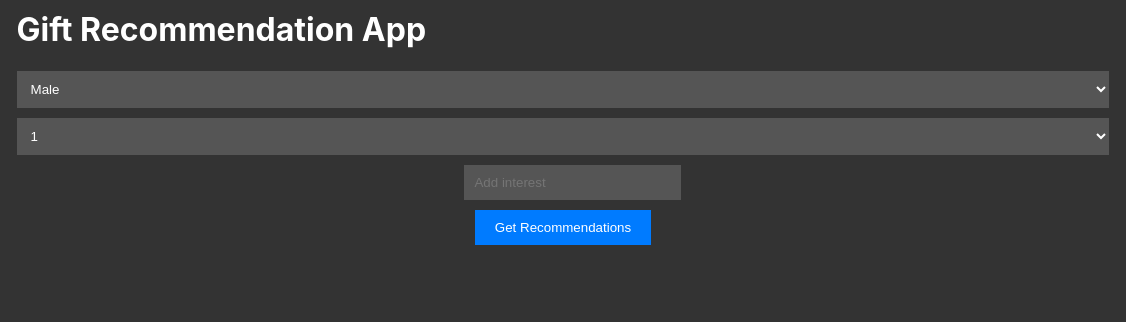
Test: GiftForm › error message is displayed when API request fails
What coordinates should you click on to do the following:
click the button "Get Recommendations"
I would click on:
 (563, 227)
Its box is [475,210,651,245].
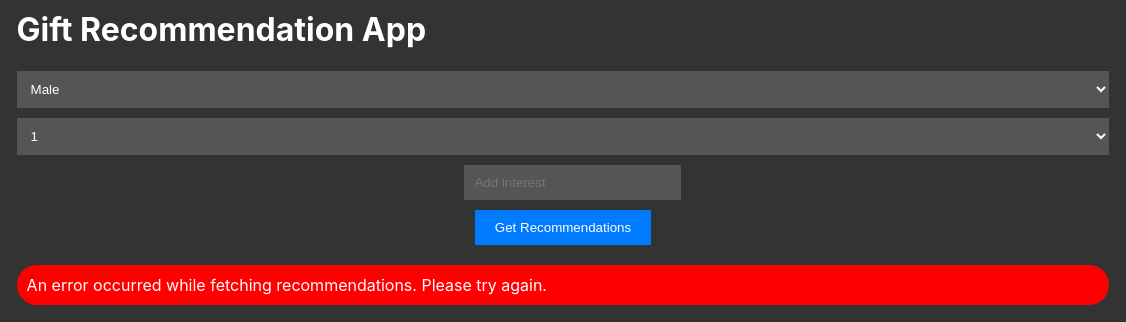
Expected: the text "An error occurred while fetching recommendations. Please try again." is shown, [17,265,1109,305]
